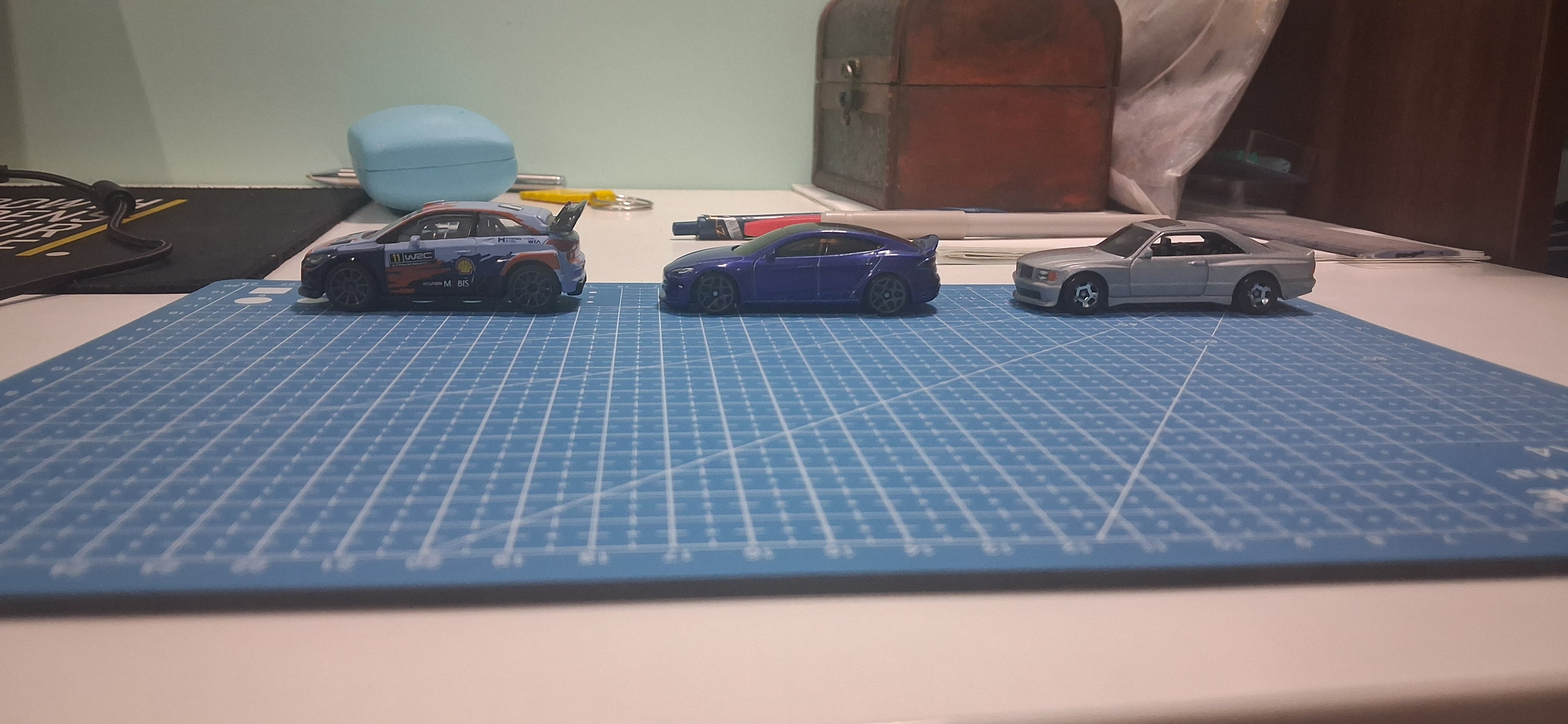Hyundai_I20_WRC: (274, 187, 607, 338)
Mercedes_Benz_560_SEC_AMG: (1005, 209, 1337, 335)
Tesla_Model_S_Plaid: (652, 206, 959, 330)
